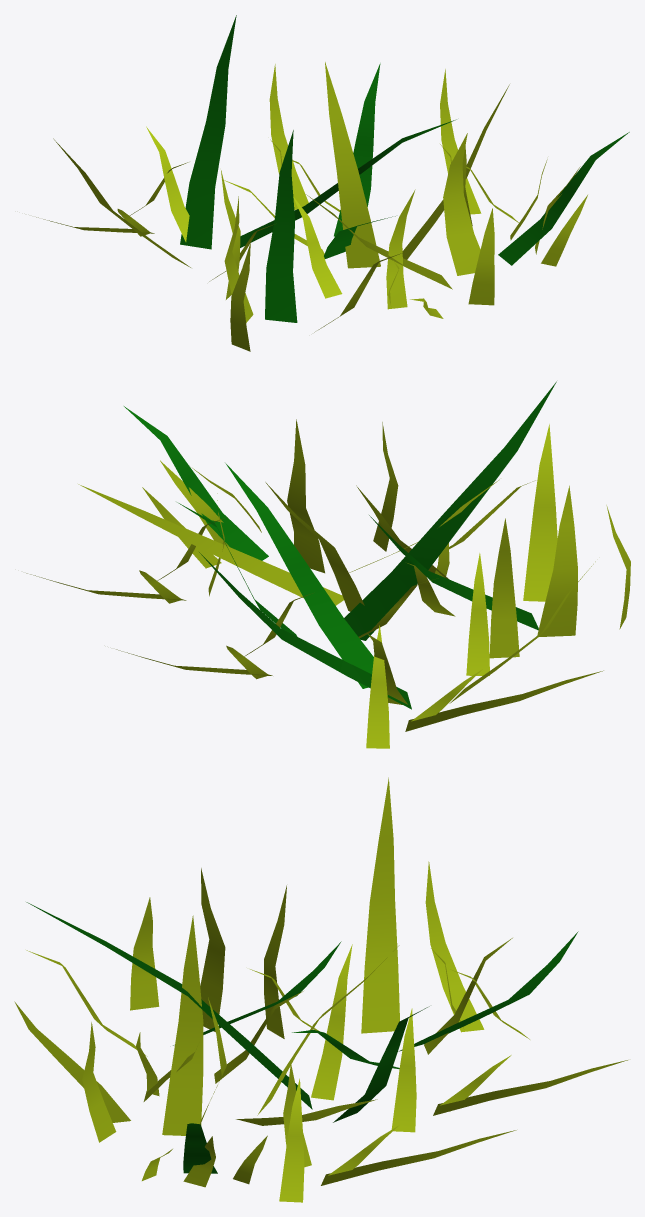
The model's file is LowPollyGrass02.fbx.
The picture shows the model from 3 angles, top to bottom: view 1: azimuth 30°, elevation 25°; view 2: azimuth 150°, elevation 25°; view 3: azimuth 270°, elevation 25°; orthographic projection. The views are drawn at different scales.
Parts seen in each view (by area): view 1: grass.002; view 2: grass.002; view 3: grass.002.
Boxes of the visible parts, x1,y1,x2,y2 form: grass.002: [36, 15, 629, 351]; grass.002: [26, 381, 630, 748]; grass.002: [14, 777, 627, 1202].
Size of the model in its own units: 1905 by 577 by 1680.
